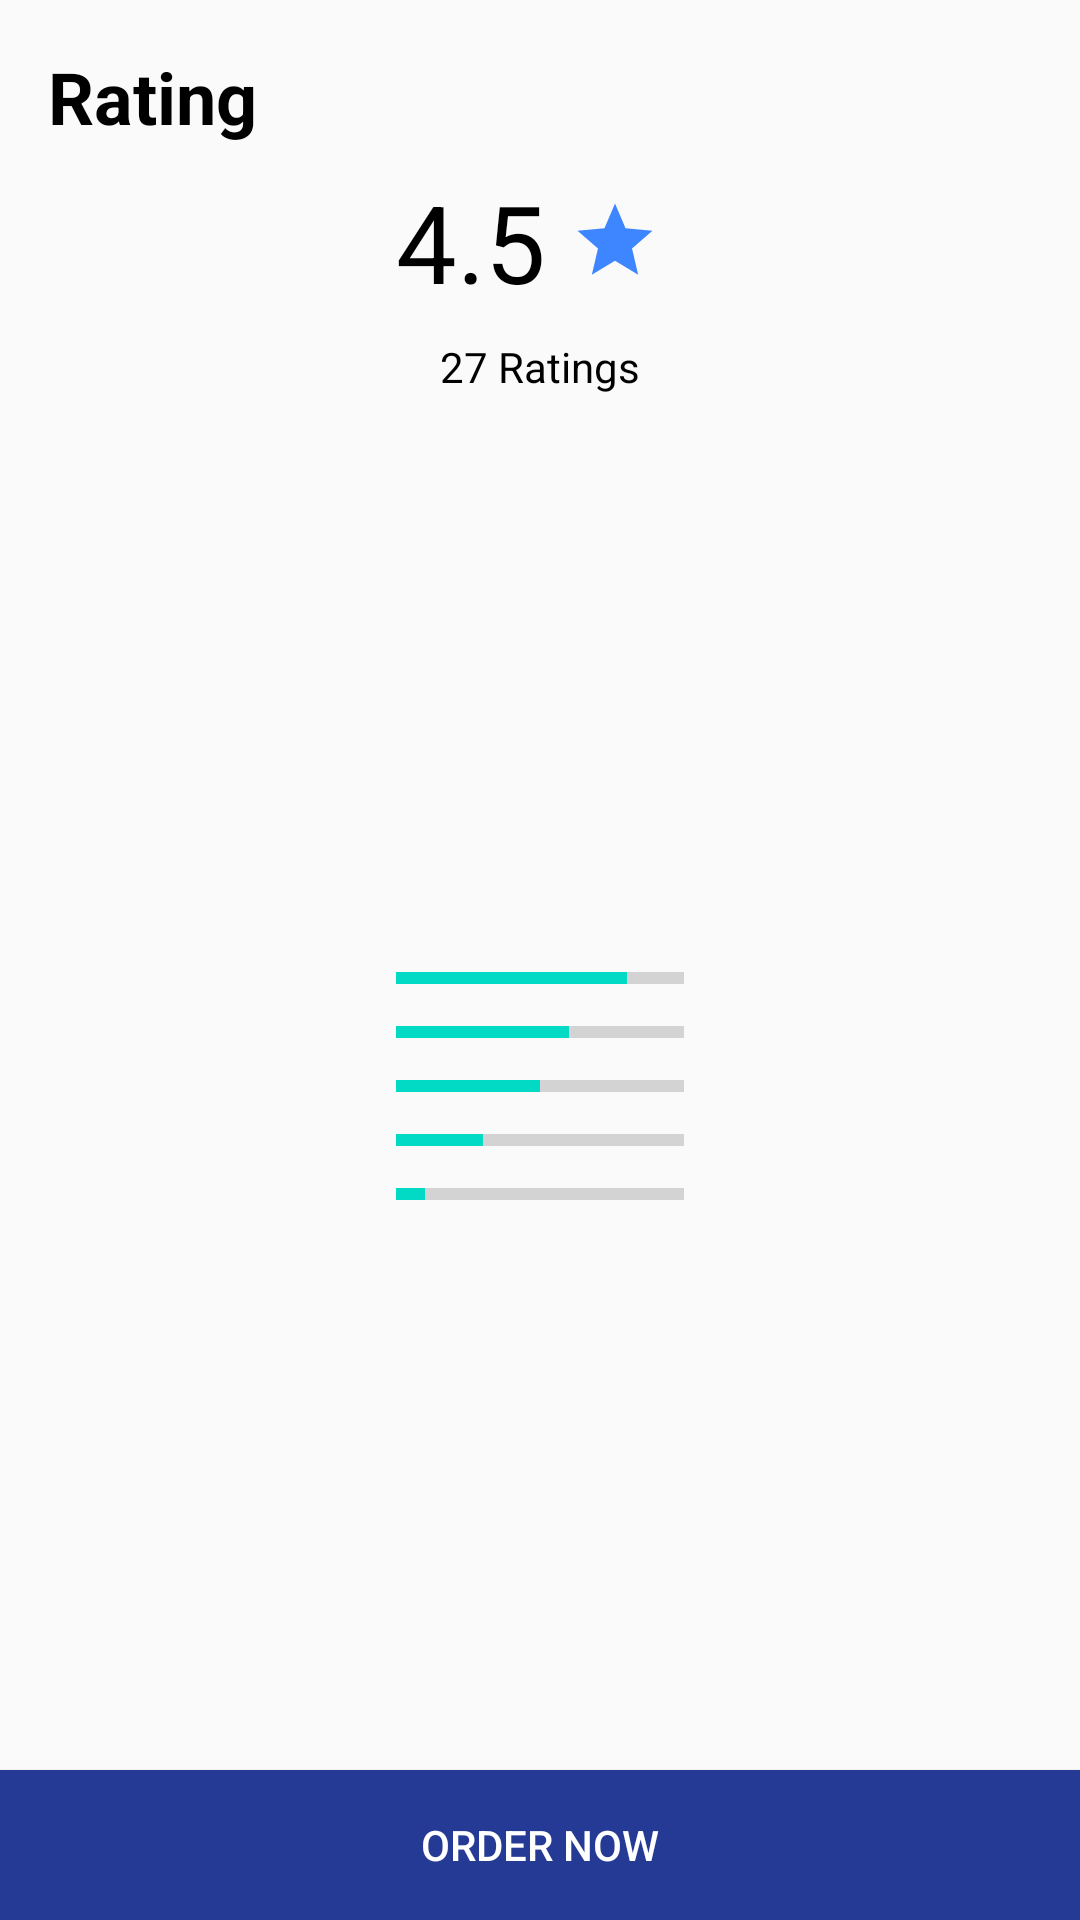

Point at icon controls on the screen. Image size 1080w x 1920h, points as (x,y).
star: (615,239)
